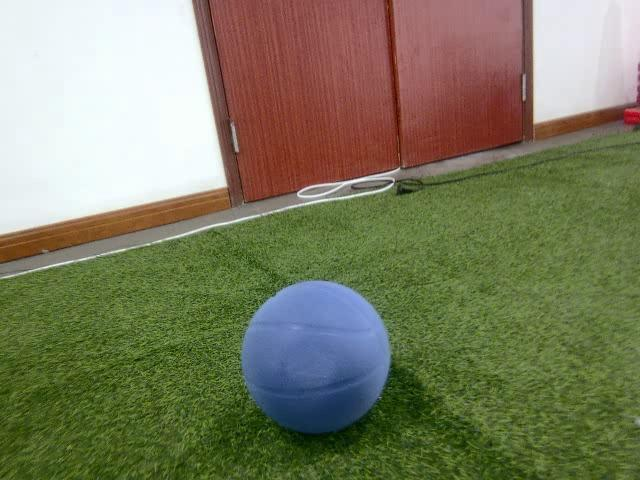blue_ball: (243, 283, 391, 436)
